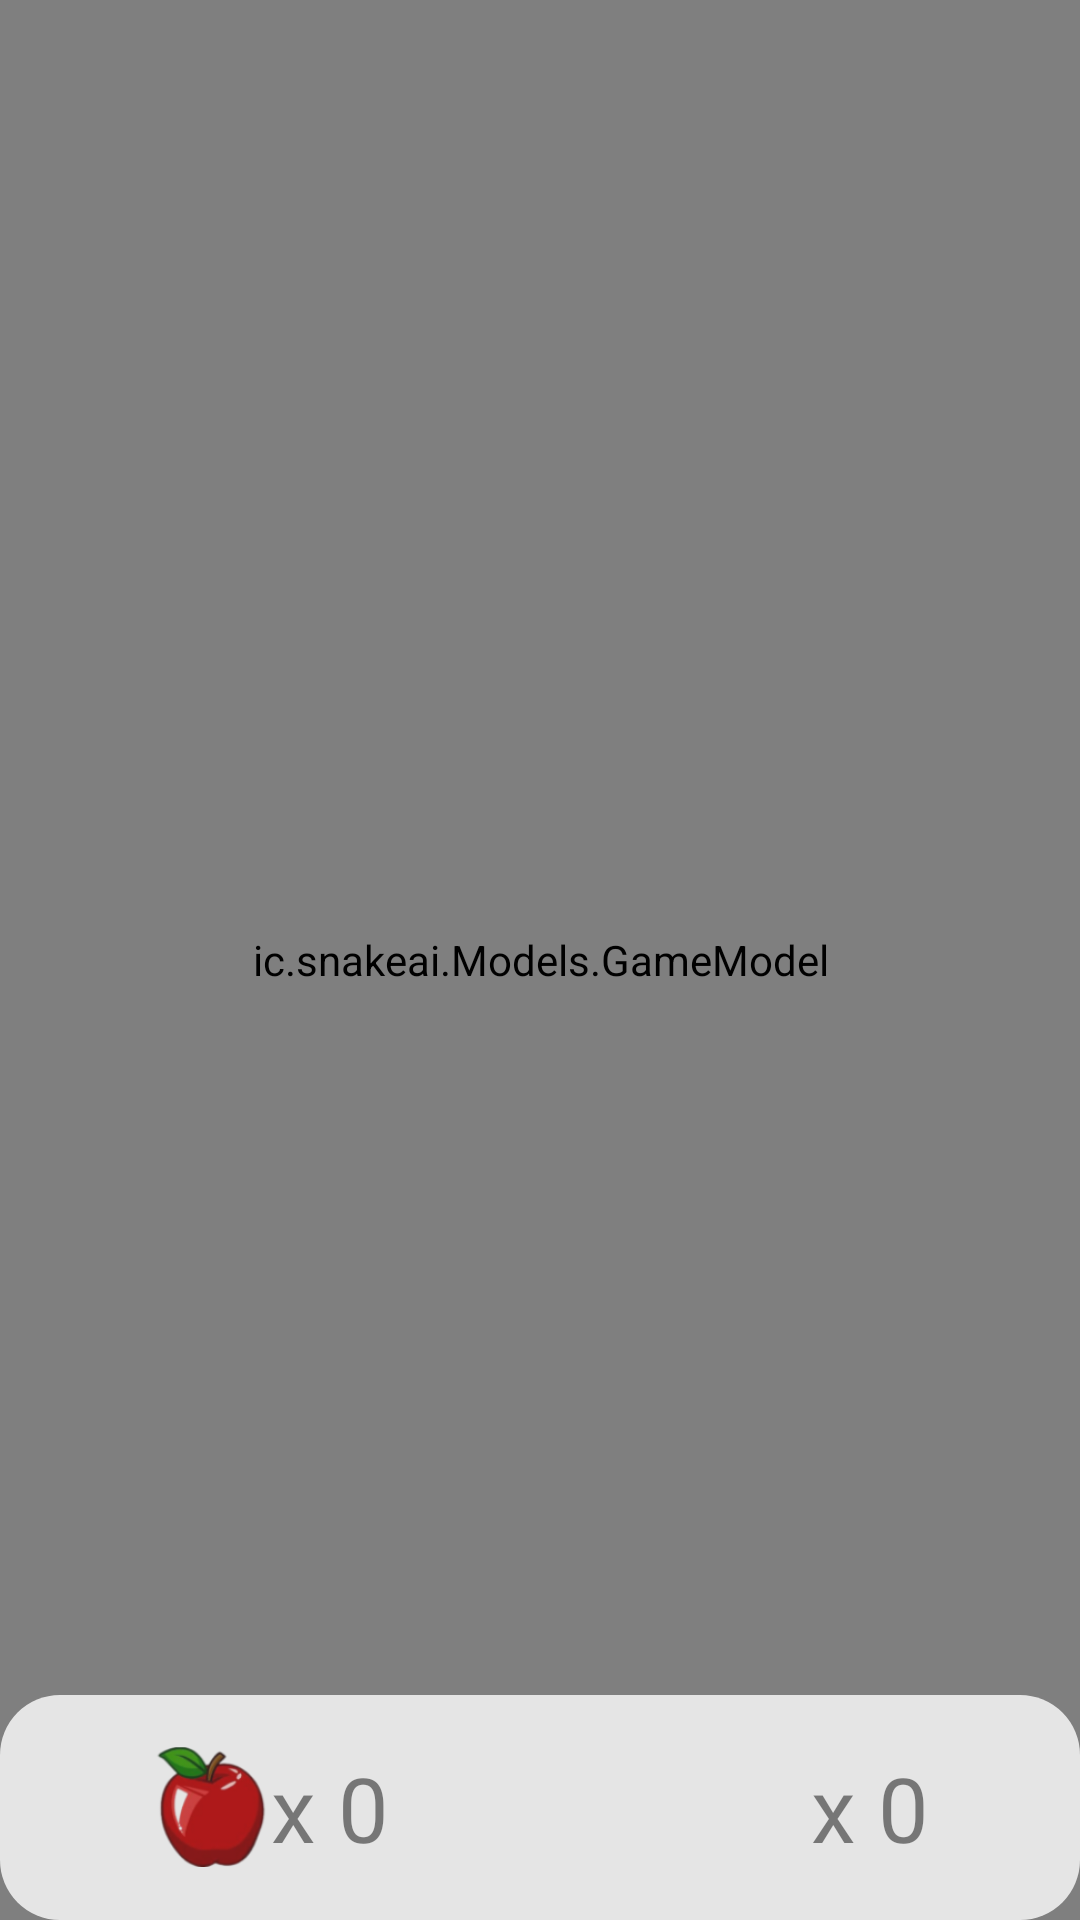

Icons on this 1080×1920 Android screen, each with its box as (x1, y1, x2, y2):
apple: (158, 1747, 265, 1867)
